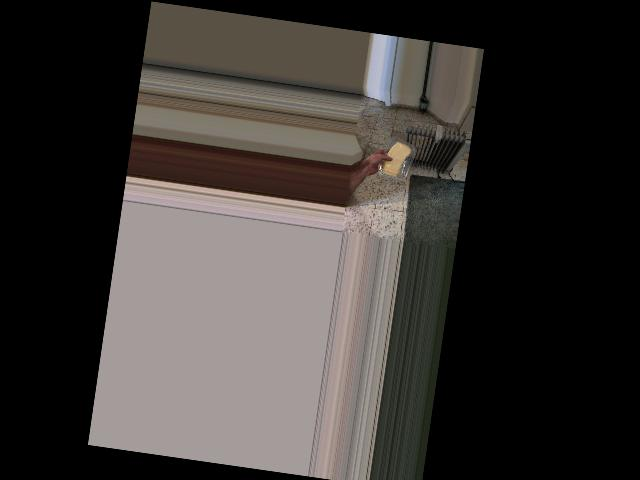cheese: (378, 136, 413, 180)
